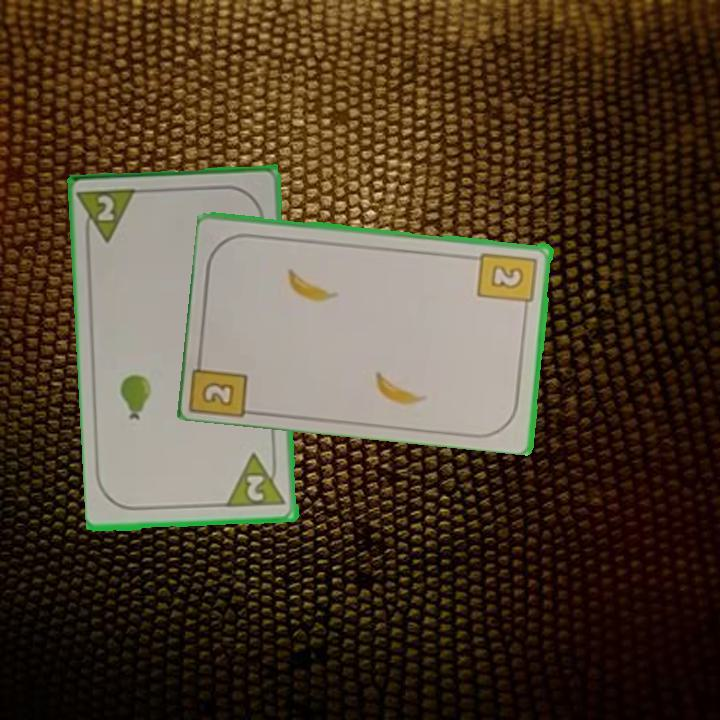2b: (190, 348, 252, 418), (475, 248, 540, 314)
2p: (77, 185, 142, 248), (225, 450, 289, 511)
